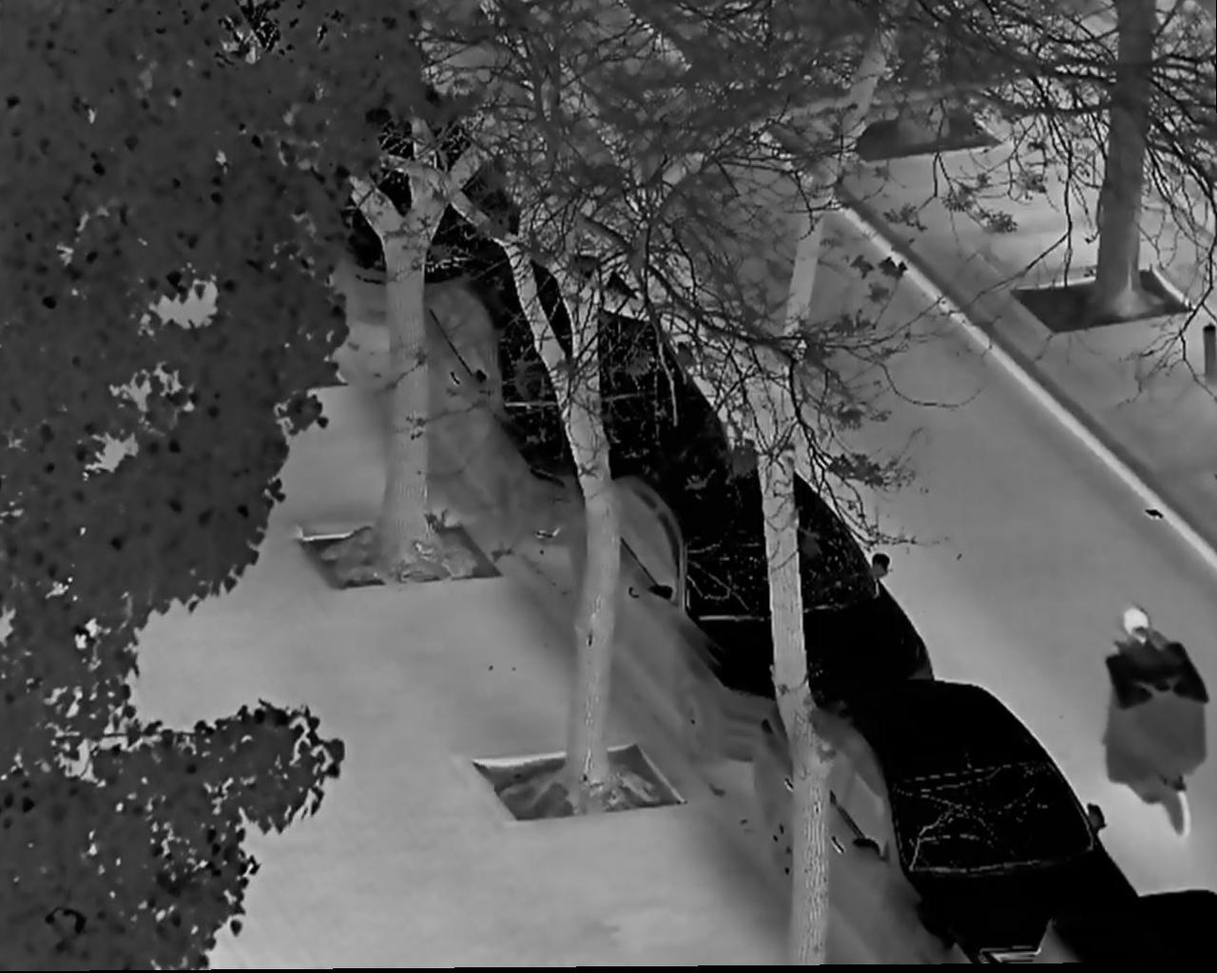person: (1097, 601, 1200, 773)
